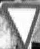Give way: (1, 0, 36, 45)
